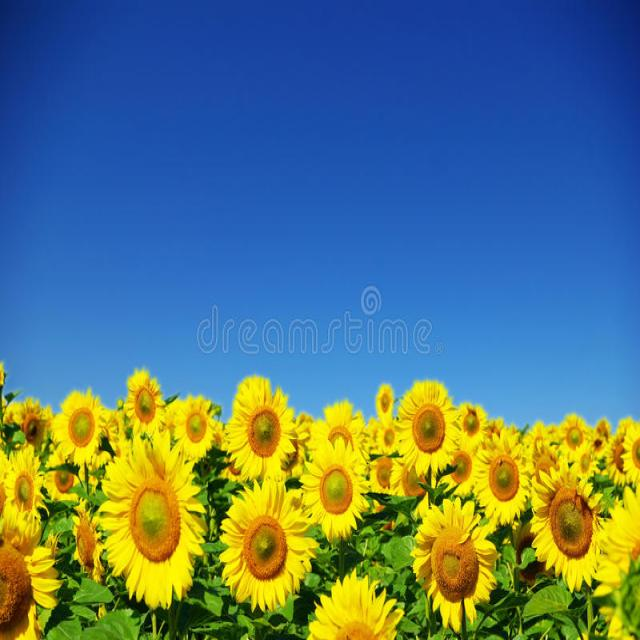sunflower: (93, 432, 208, 614), (405, 491, 505, 640), (216, 482, 324, 614), (529, 459, 613, 600), (225, 363, 297, 484), (296, 432, 378, 532), (467, 427, 541, 534), (388, 378, 464, 481), (0, 440, 62, 534), (54, 386, 108, 472), (120, 359, 168, 433), (168, 393, 218, 459), (560, 409, 596, 464)
